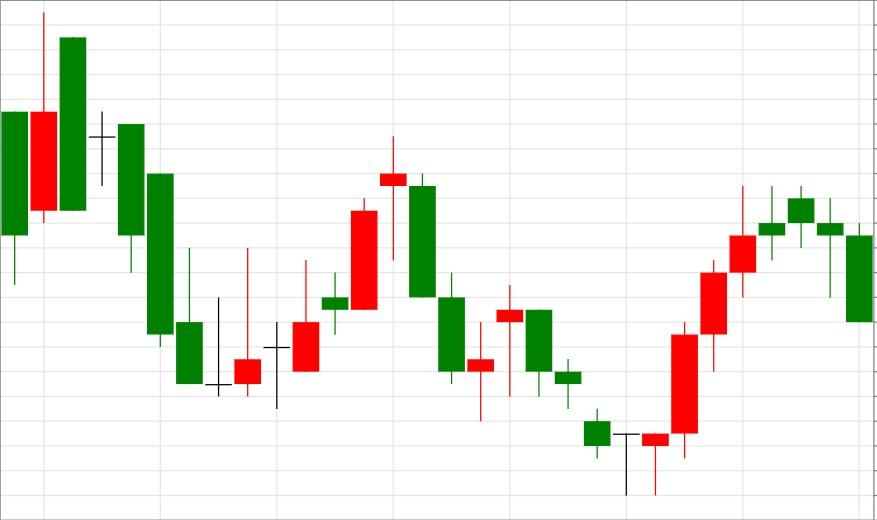morning_star_rise: (59, 38, 262, 397)
three_white_soldiers_rise: (379, 136, 728, 496)
